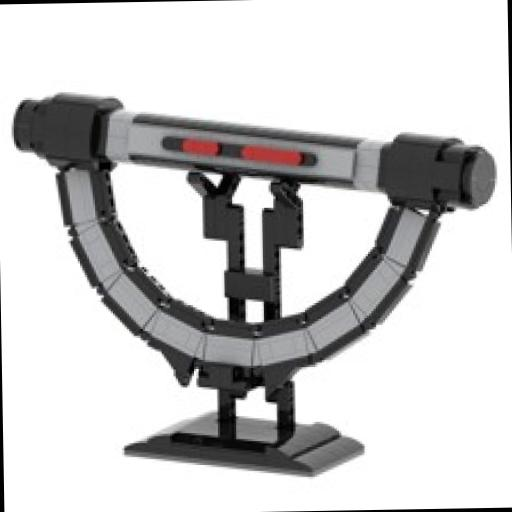lightsaber: (20, 88, 494, 224)
